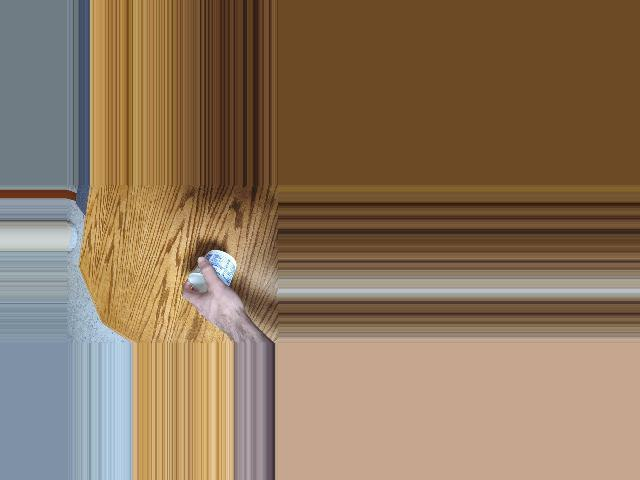cotage: (185, 248, 241, 291)
